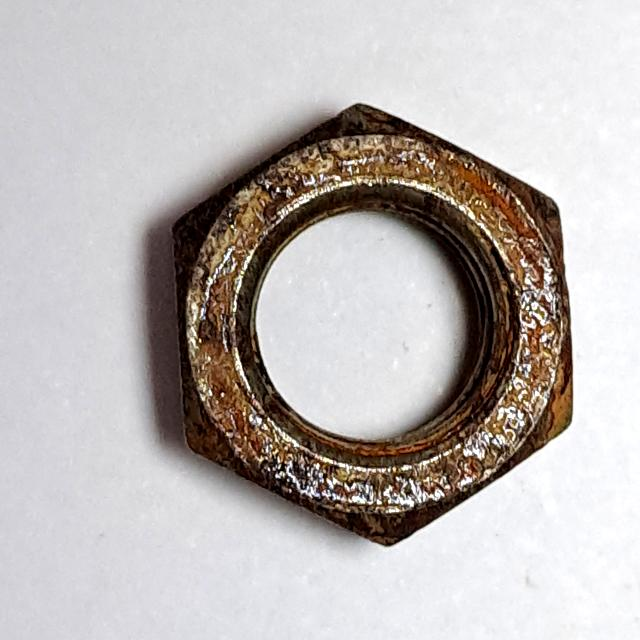Rust: (156, 87, 584, 567)
